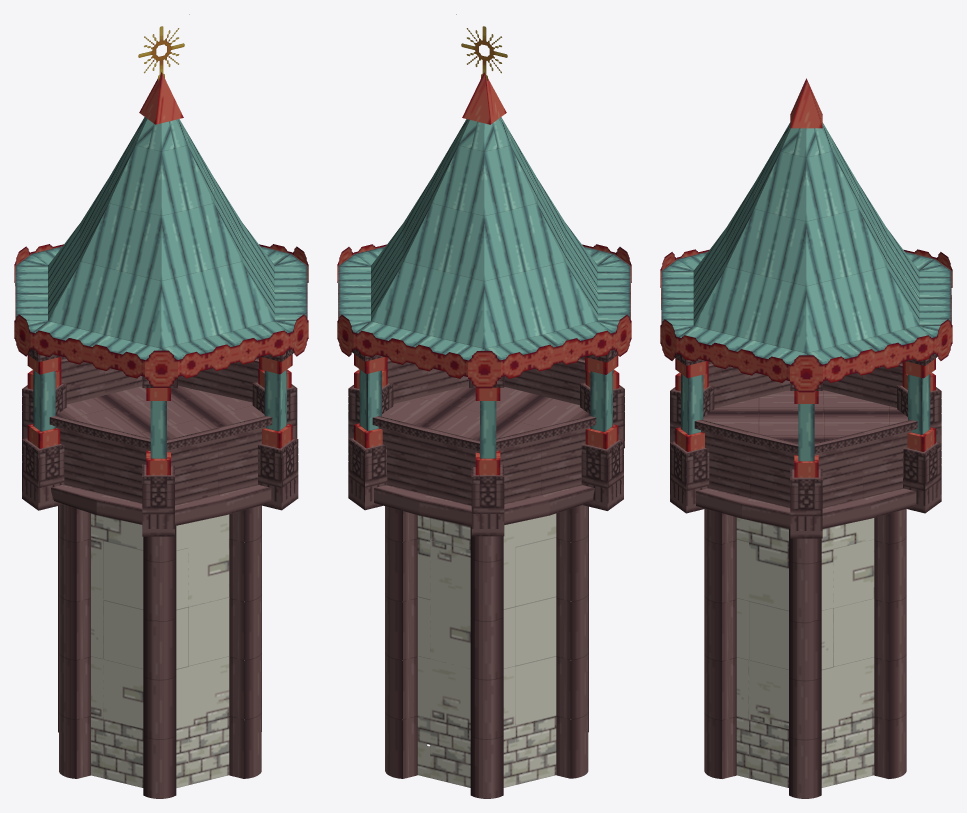
Rendered from watchtower.fbx.
3 views of the same model, side by side, from view 1: azimuth 30°, elevation 25°; view 2: azimuth 150°, elevation 25°; view 3: azimuth 270°, elevation 25° (orthographic).
Parts seen in each view (by area): view 1: watchtower; view 2: watchtower; view 3: watchtower.
Boxes of the visible parts, box(x1,y1,x2,y2) form: watchtower: box(14, 14, 308, 798); watchtower: box(337, 14, 631, 798); watchtower: box(660, 78, 952, 798).
Bounding box in the file's own units: 490 × 1227 × 449.
